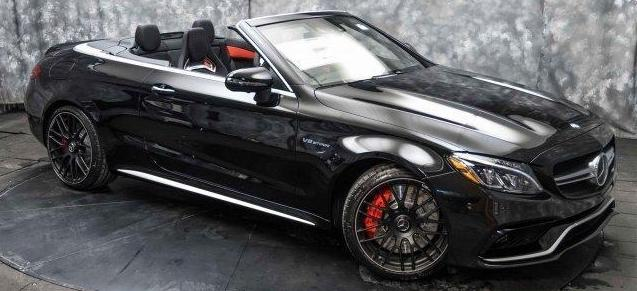C63AMG: (26, 5, 618, 281)
